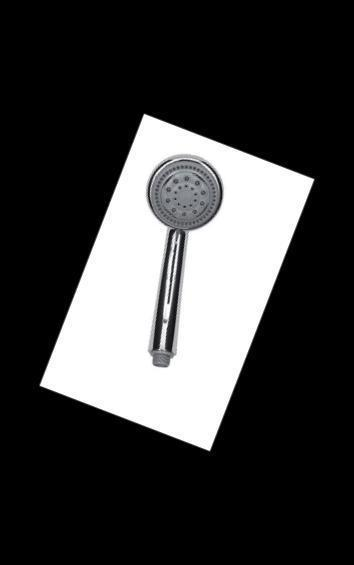Ducha: (80, 135, 267, 385)
